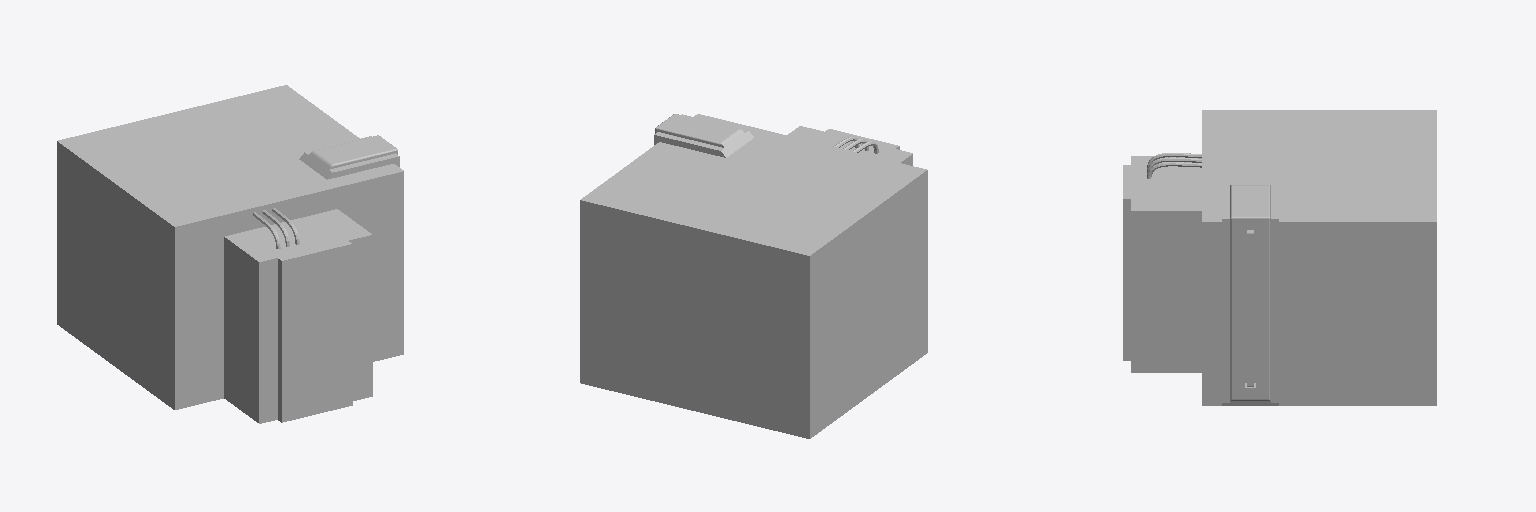
File: BitcoinMachine2.obj
3 renders of one model, left to right at view 1: azimuth 30°, elevation 25°; view 2: azimuth 150°, elevation 25°; view 3: azimuth 270°, elevation 25°, orthographic.
Visible parts, largest first — view 1: Cube_Cube.001, Cube.001_Cube.002; view 2: Cube_Cube.001, Cube.001_Cube.002; view 3: Cube_Cube.001, Cube.001_Cube.002, Cube.002_Cube.003.
Boxes of the visible parts, x1=… form: Cube_Cube.001: x1=57, y1=85, x2=403, y2=423; Cube.001_Cube.002: x1=299, y1=135, x2=399, y2=179; Cube_Cube.001: x1=580, y1=114, x2=927, y2=438; Cube.001_Cube.002: x1=654, y1=114, x2=753, y2=157; Cube_Cube.001: x1=1123, y1=110, x2=1436, y2=405; Cube.001_Cube.002: x1=1222, y1=185, x2=1278, y2=405; Cube.002_Cube.003: x1=1247, y1=230, x2=1253, y2=386.
Size of the model in its own units: 13.77 by 10.51 by 15.57.